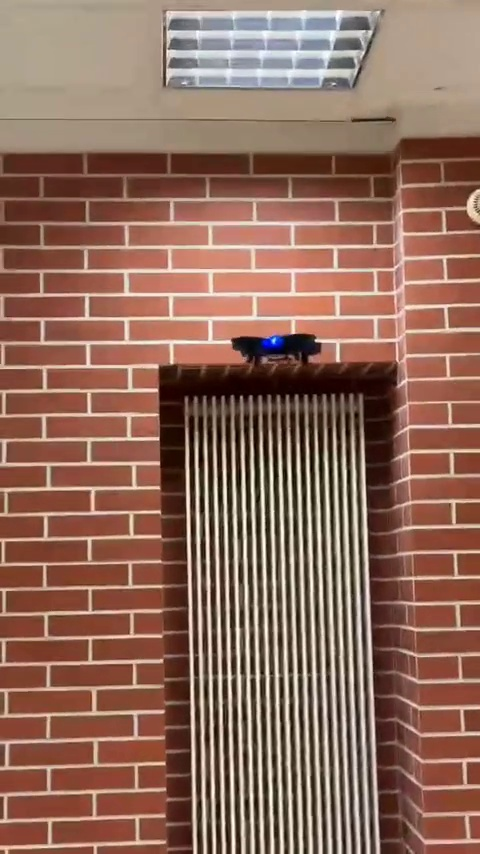drone: (230, 331, 324, 366)
